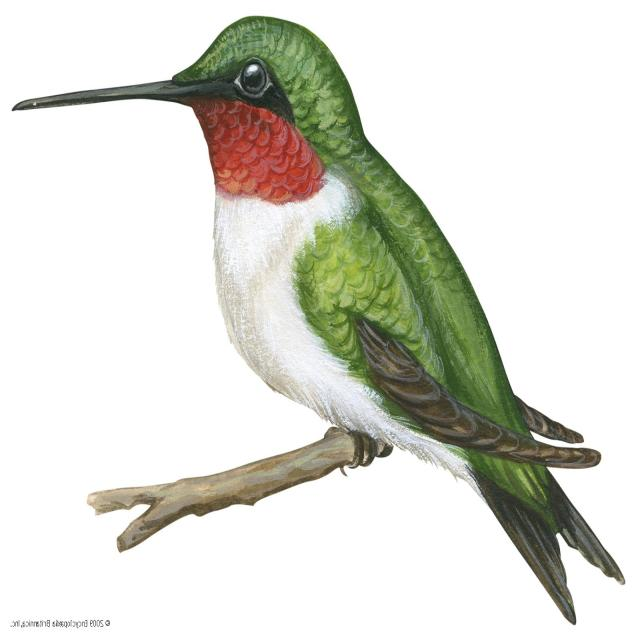hummingbird: (13, 16, 624, 623)
